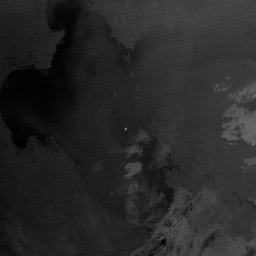Target: (122, 126, 128, 131)
